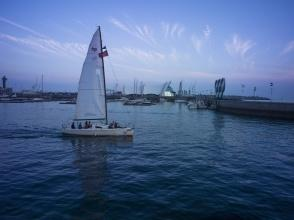fanchuan: (60, 24, 139, 135)
